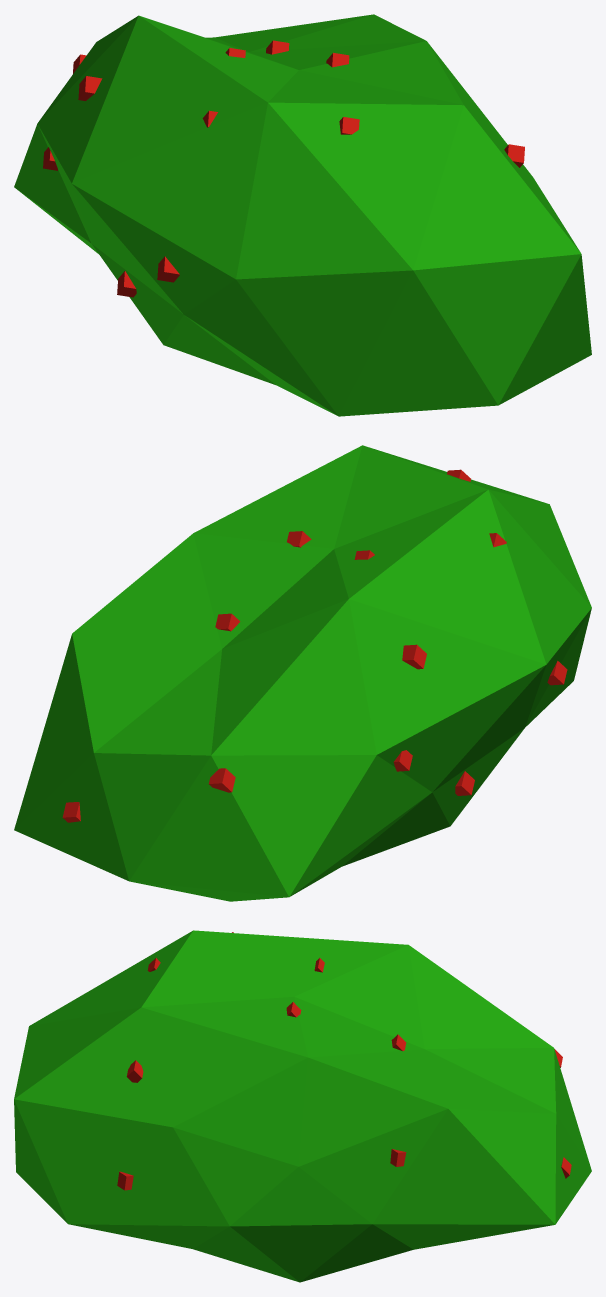
File: Bush_8.fbx
3 renders of one model, top to bottom at view 1: azimuth 30°, elevation 25°; view 2: azimuth 150°, elevation 25°; view 3: azimuth 270°, elevation 25°, orthographic. The views are drawn at different scales.
Visible parts, largest first — view 1: Bush8_mesh; view 2: Bush8_mesh; view 3: Bush8_mesh.
Boxes of the visible parts, x1,y1,x2,y2 form: Bush8_mesh: [14, 14, 591, 416]; Bush8_mesh: [14, 445, 591, 901]; Bush8_mesh: [14, 930, 591, 1282].
Size of the model in its own units: 148 by 108 by 221.
